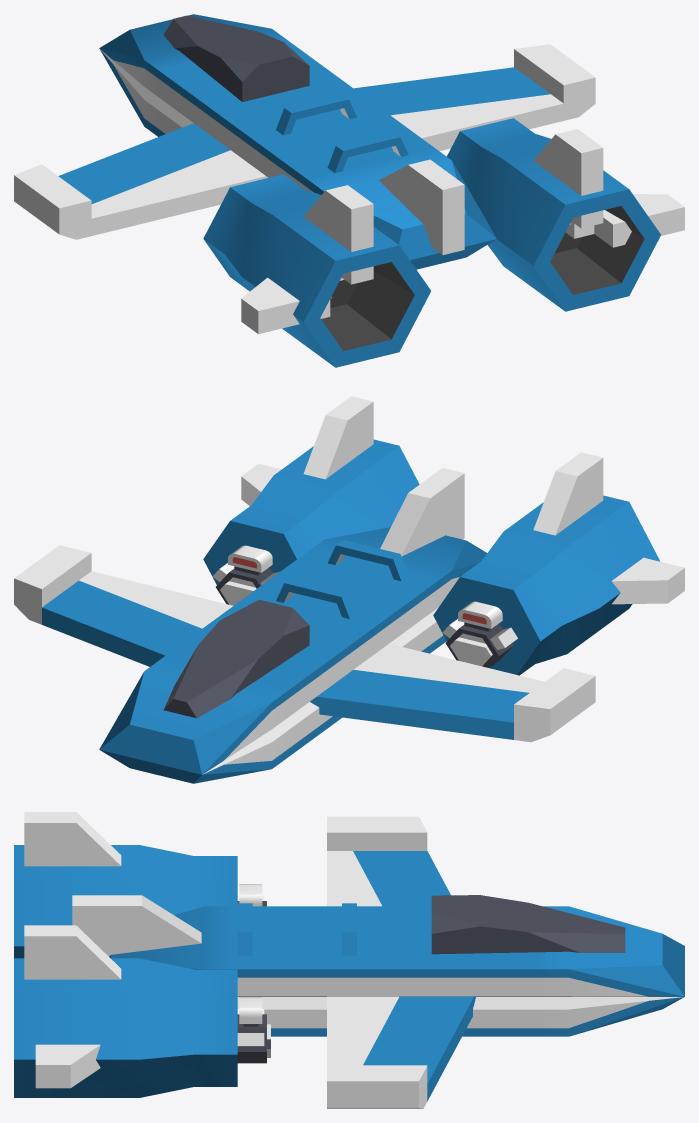
The model's file is Explorer.obj.
The picture shows the model from 3 angles, top to bottom: view 1: azimuth 30°, elevation 25°; view 2: azimuth 150°, elevation 25°; view 3: azimuth 270°, elevation 25°; orthographic projection.
Visible parts, largest first — view 1: engine_rocket%_9, engine_rocket%_8, wind_endLow_20, wind_endLow_21, ship_hull_3, glass_high_10, ship_hull_1, ship_frontEdge_2, plane_rudder_11, ship_frontEdge_0, plane_rudder_23, plane_rudder_24 (+6 smaller); view 2: engine_rocket%_9, wind_endLow_20, engine_rocket%_8, wind_endLow_21, ship_frontEdge_0, ship_hull_3, glass_high_10, ship_hull_1, plane_rudder_11, ship_frontEdge_2, plane_rudder_23, plane_rudder_24 (+8 smaller); view 3: engine_rocket%_8, wind_endLow_21, ship_hull_3, engine_rocket%_9, wind_endLow_20, glass_high_10, ship_hull_1, ship_frontEdge_0, plane_rudder_11, plane_rudder_23, plane_rudder_24, ship_frontEdge_2 (+7 smaller).
Boxes of the visible parts, <box> form: engine_rocket%_9: <box>203,174,430,367</box>; engine_rocket%_8: <box>447,118,660,311</box>; wind_endLow_20: <box>14,123,268,239</box>; wind_endLow_21: <box>354,44,595,151</box>; ship_hull_3: <box>234,94,435,190</box>; glass_high_10: <box>163,15,309,101</box>; ship_hull_1: <box>160,40,361,152</box>; ship_frontEdge_2: <box>308,148,496,259</box>; plane_rudder_11: <box>378,159,464,255</box>; ship_frontEdge_0: <box>99,14,287,98</box>; plane_rudder_23: <box>303,185,373,284</box>; plane_rudder_24: <box>533,129,603,228</box>; engine_rocket%_9: <box>433,495,660,675</box>; wind_endLow_20: <box>310,644,595,742</box>; engine_rocket%_8: <box>203,439,419,584</box>; wind_endLow_21: <box>14,545,233,666</box>; ship_frontEdge_0: <box>99,659,288,774</box>; ship_hull_3: <box>234,551,435,662</box>; glass_high_10: <box>163,599,309,718</box>; ship_hull_1: <box>161,605,361,716</box>; plane_rudder_11: <box>380,468,464,556</box>; ship_frontEdge_2: <box>308,527,486,608</box>; plane_rudder_23: <box>533,452,603,535</box>; plane_rudder_24: <box>303,396,373,479</box>; engine_rocket%_8: <box>14,958,237,1097</box>; wind_endLow_21: <box>327,996,475,1108</box>; ship_hull_3: <box>237,906,386,996</box>; engine_rocket%_9: <box>14,845,237,958</box>; wind_endLow_20: <box>327,816,450,906</box>; glass_high_10: <box>431,895,625,954</box>; ship_hull_1: <box>386,906,535,996</box>; ship_frontEdge_0: <box>536,906,684,996</box>; plane_rudder_11: <box>72,895,201,956</box>; plane_rudder_23: <box>24,812,121,866</box>; plane_rudder_24: <box>24,925,121,979</box>; ship_frontEdge_2: <box>109,906,237,969</box>.
Size of the model in its own units: 4.2 by 1.12 by 4.5.
